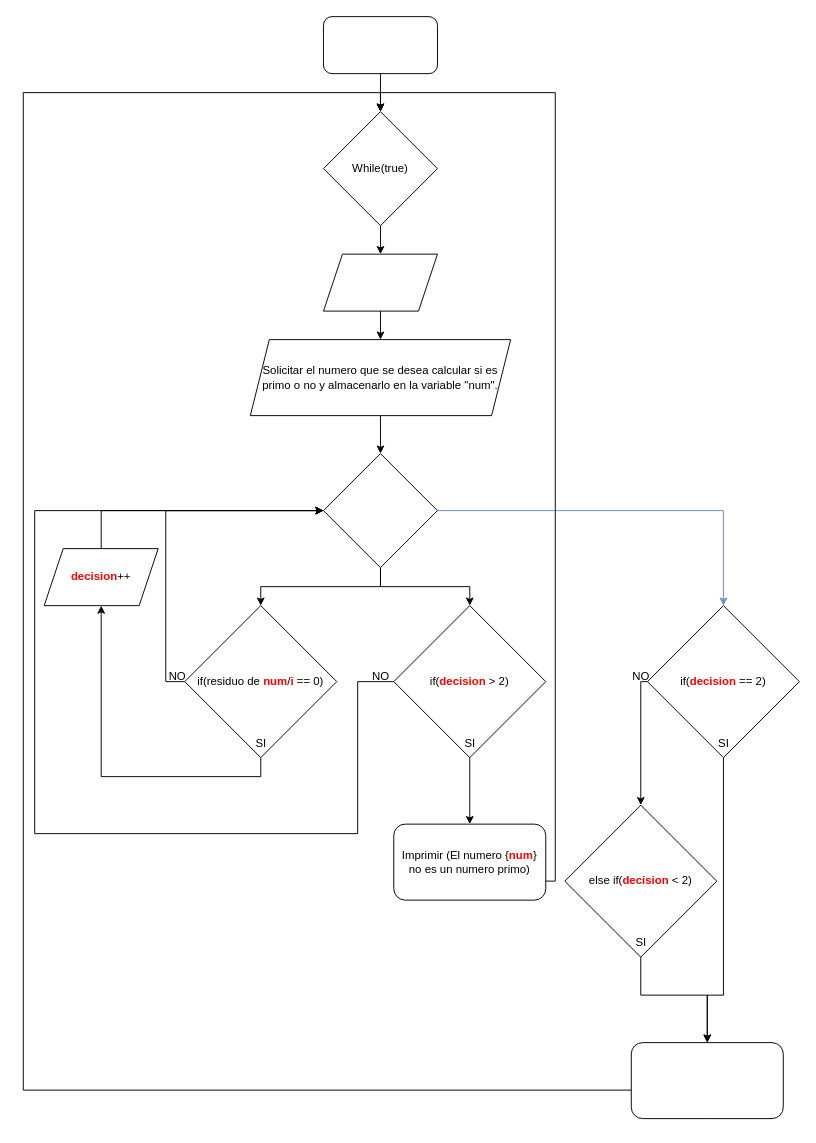
Image size: 816x1143. Some labels were removed from this diagram. The shapes that lost their labels are listed below. From the top down, each one's centre as x and y in pixels, then its label:
At point 380,45: "Calculador de numeros primos.".
At point 380,282: "int decision = 0".
At point 380,510: "Desde i = 1 Hasta i <= num incremento 1".
At point 706,1080: "Imprimir (El numero { num } es un numero primo)".
